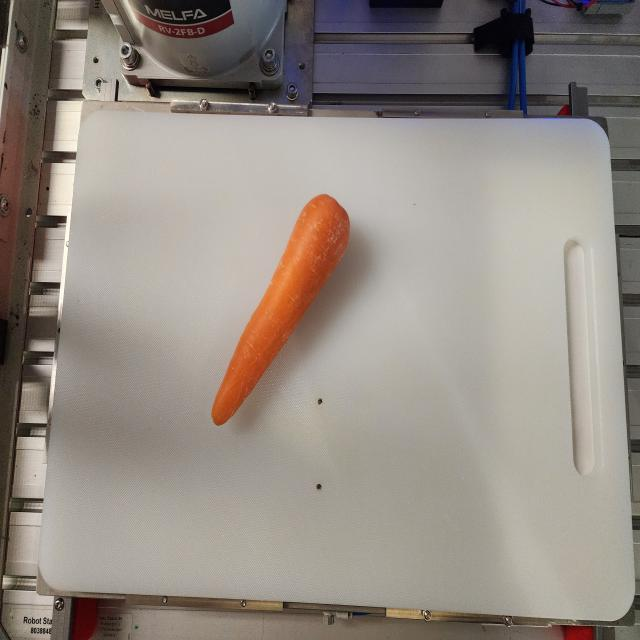carrot: (211, 193, 350, 426)
